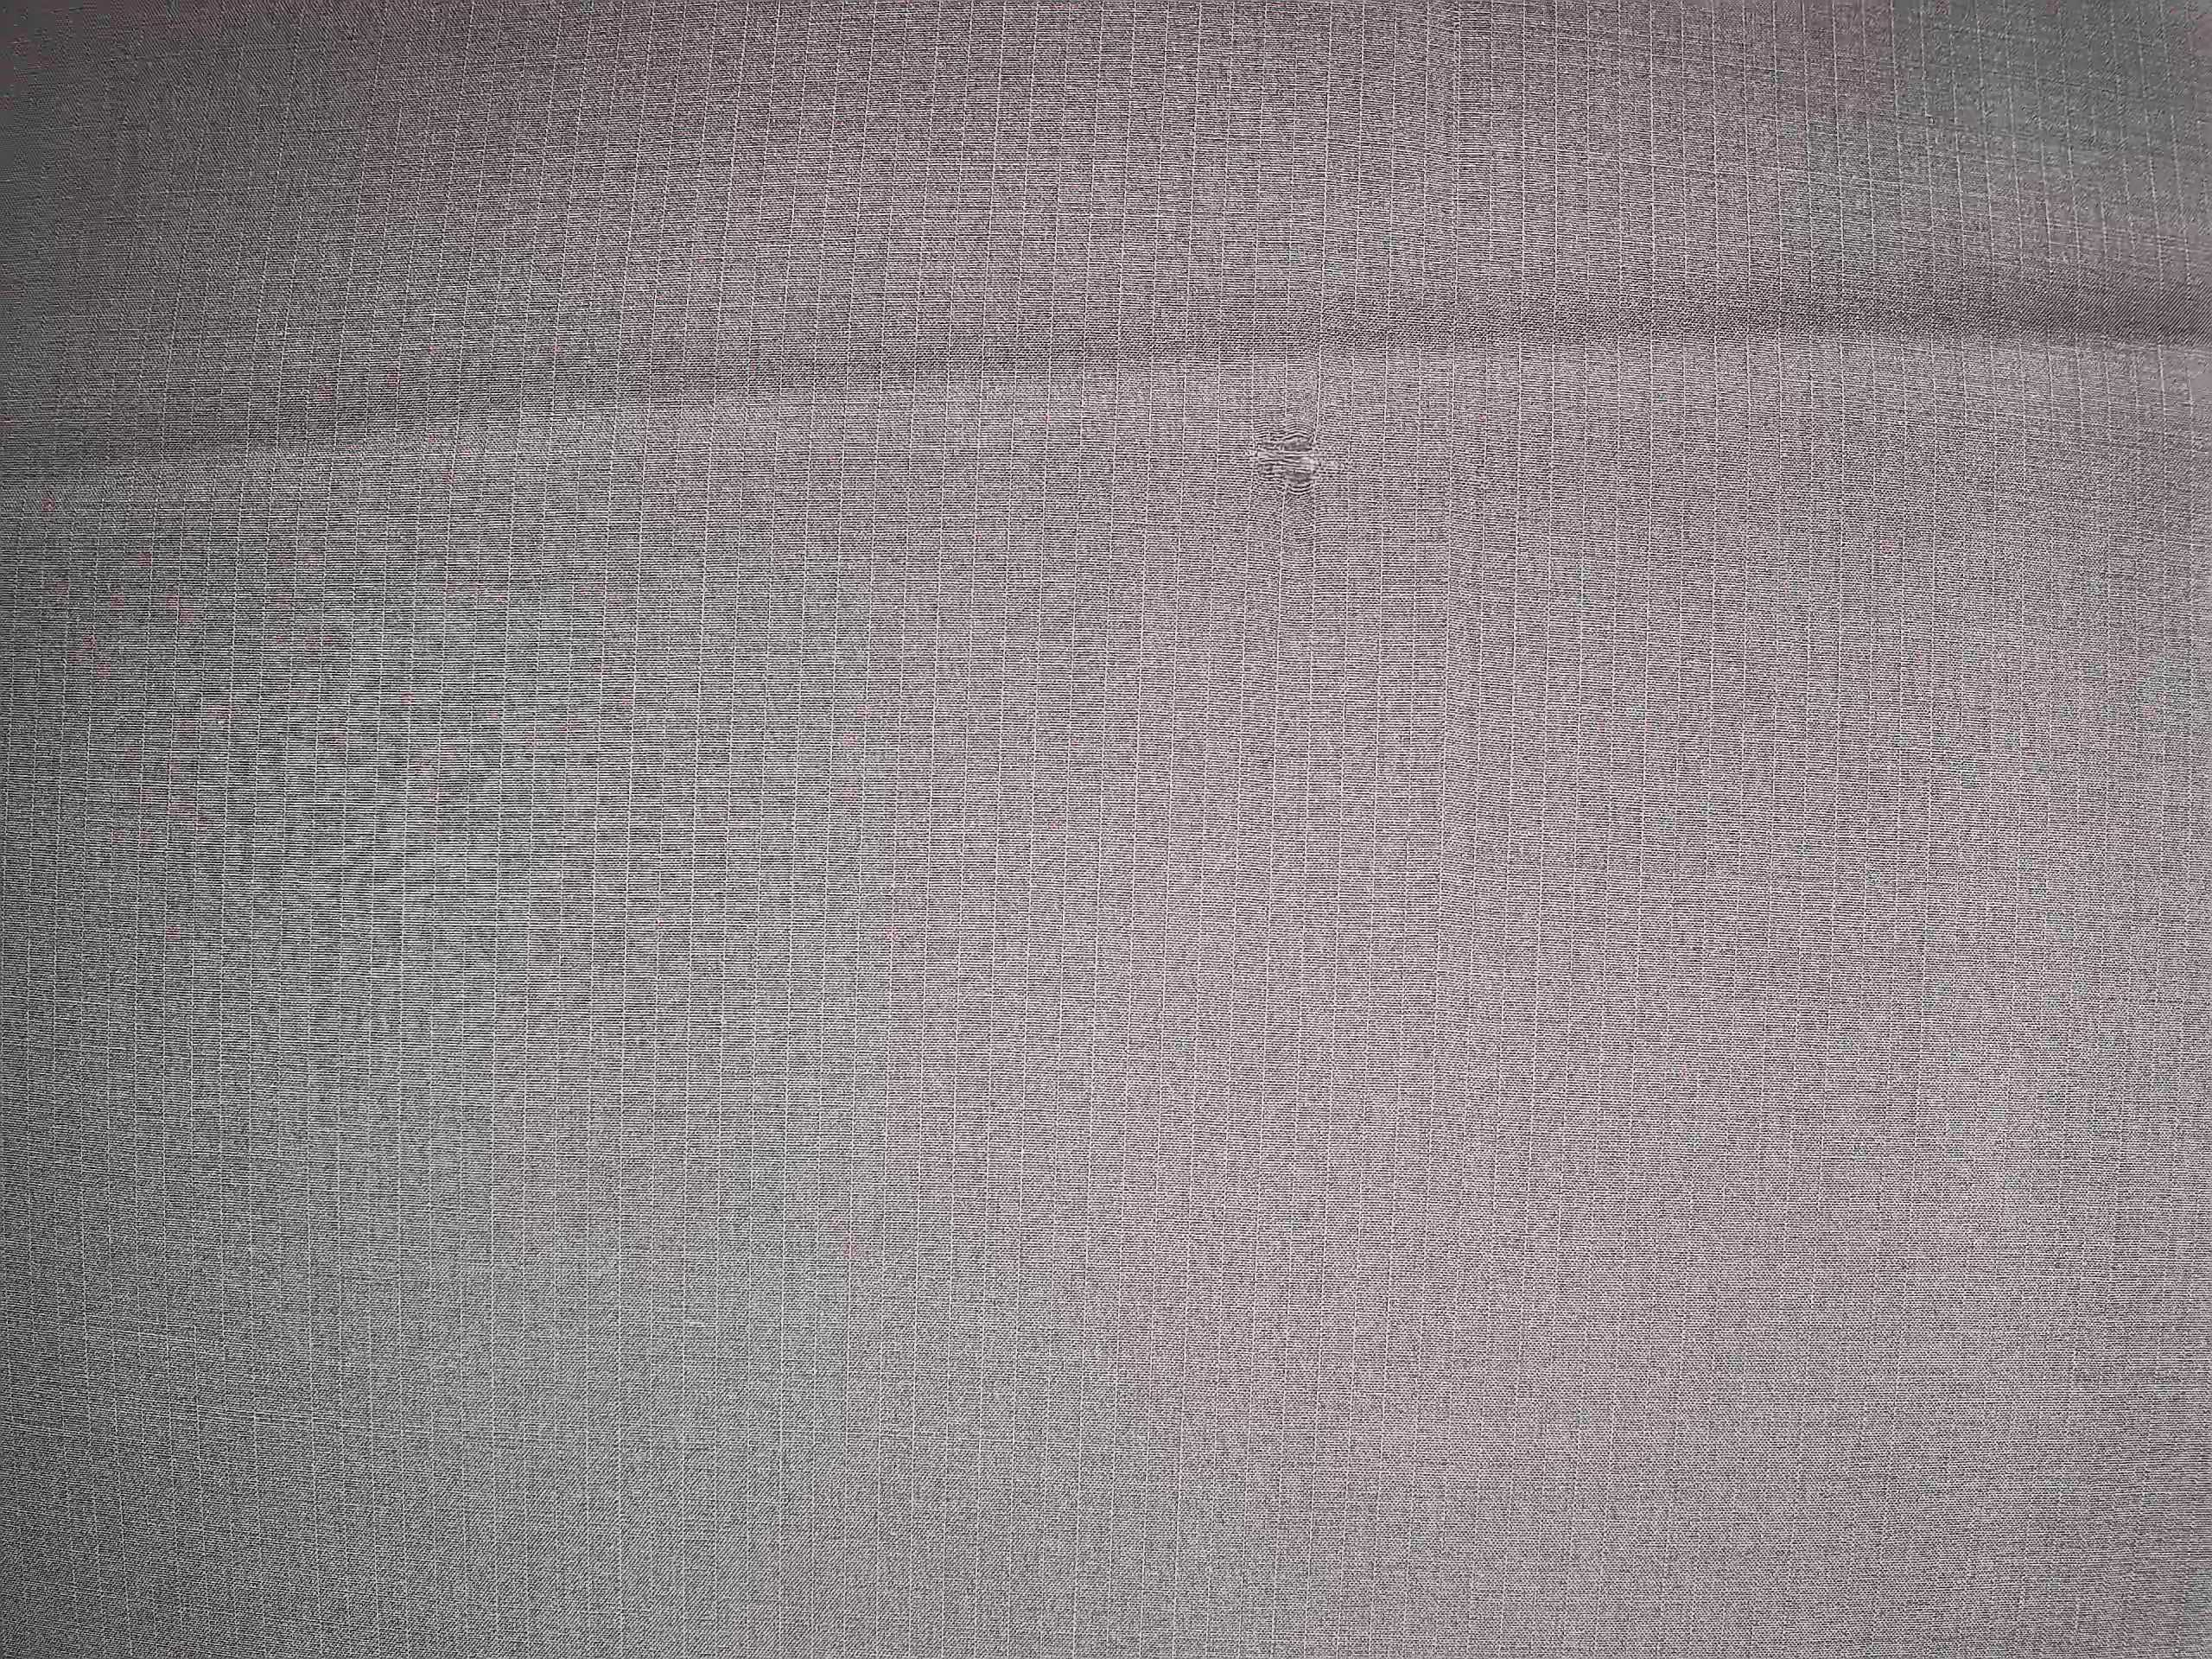brushed-hole: (1247, 403, 1341, 525)
